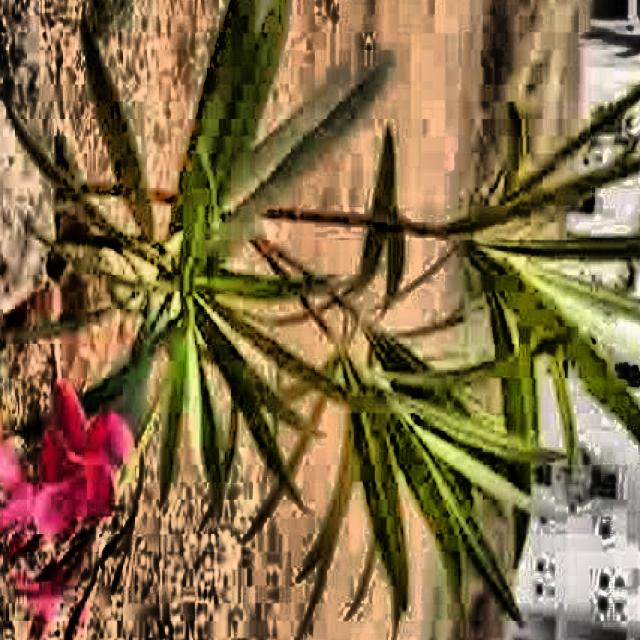Oleander: (1, 1, 640, 640)
